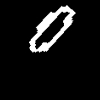chain: (29, 6, 74, 51)
